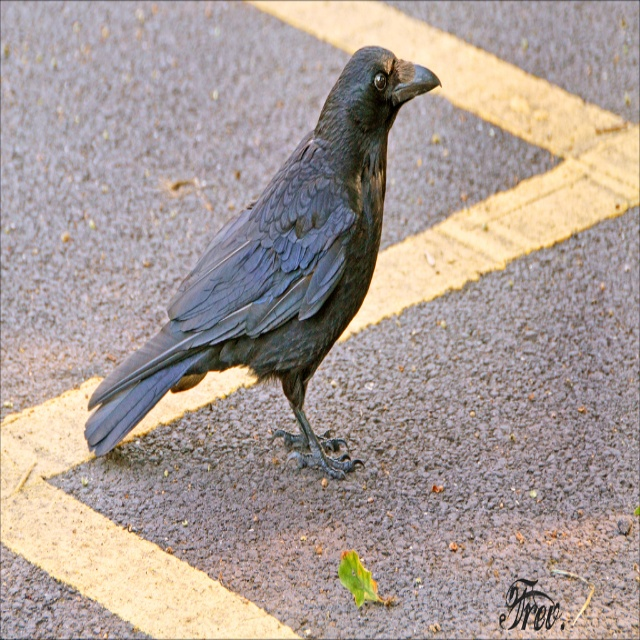Raven: (82, 41, 442, 479)
